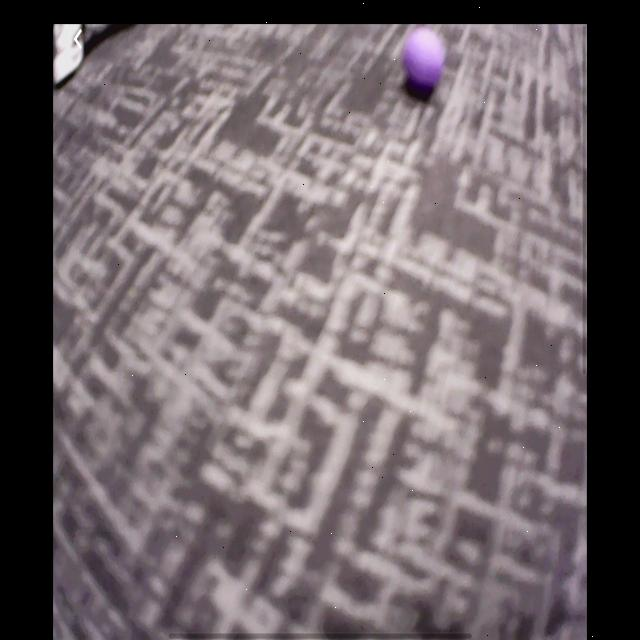ball: (406, 26, 444, 86)
